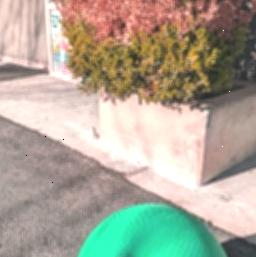algae: (71, 201, 238, 257)
